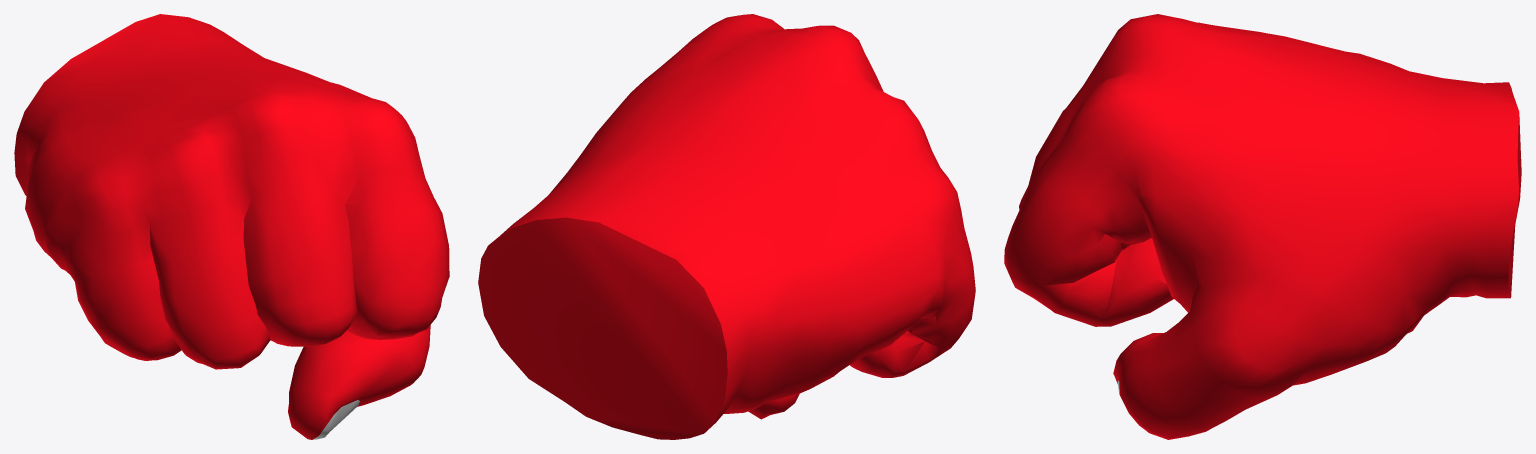
File: hand super.fbx
3 views of the same model, side by side, from view 1: azimuth 30°, elevation 25°; view 2: azimuth 150°, elevation 25°; view 3: azimuth 270°, elevation 25° (orthographic). The views are drawn at different scales.
Visible parts, largest first — view 1: flesh, nails; view 2: flesh; view 3: flesh.
Part boxes in pixels (left/top/right/bottom): flesh: left=14, top=14, right=449, bottom=439; nails: left=312, top=400, right=359, bottom=439; flesh: left=478, top=14, right=975, bottom=439; flesh: left=1004, top=14, right=1521, bottom=439.
Size of the model in its own units: 549 by 500 by 626.
